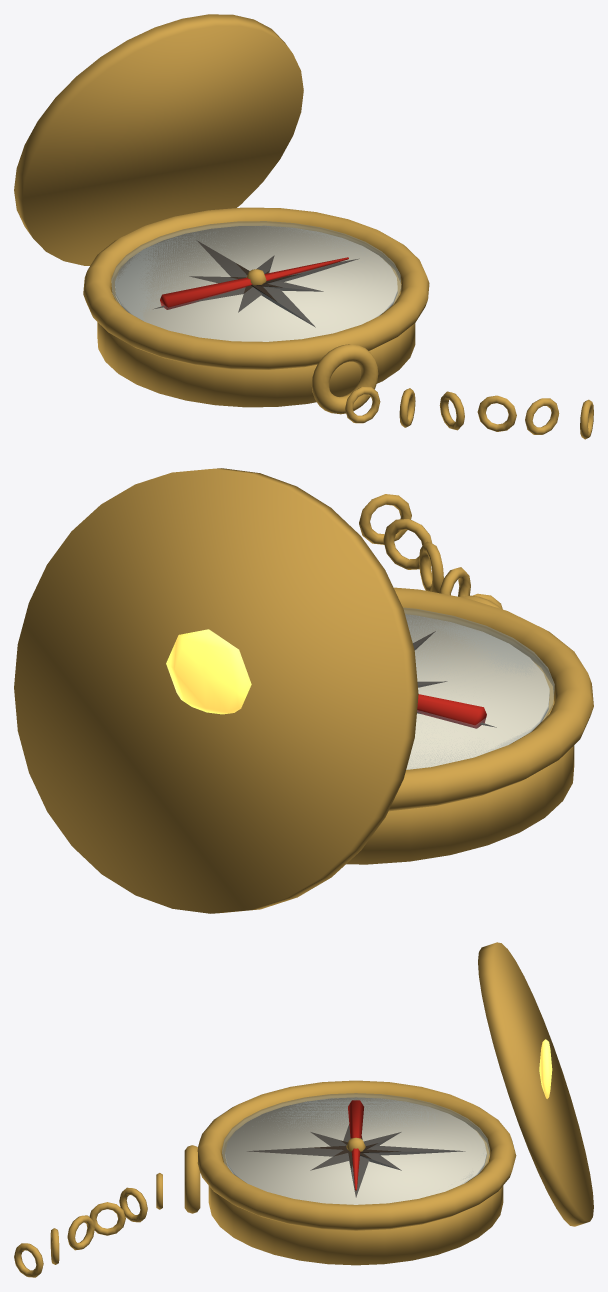
Rendered from kompass.glb.
The picture shows the model from 3 angles, top to bottom: view 1: azimuth 30°, elevation 25°; view 2: azimuth 150°, elevation 25°; view 3: azimuth 270°, elevation 25°; orthographic projection. The views are drawn at different scales.
Parts seen in each view (by area): view 1: Cylinder; view 2: Cylinder; view 3: Cylinder.
Part boxes in pixels (<box>): Cylinder: <box>14,14,593,439</box>; Cylinder: <box>14,468,593,913</box>; Cylinder: <box>14,942,593,1277</box>.
Bounding box in the file's own units: 0.1031 × 0.0863 × 0.1773.
